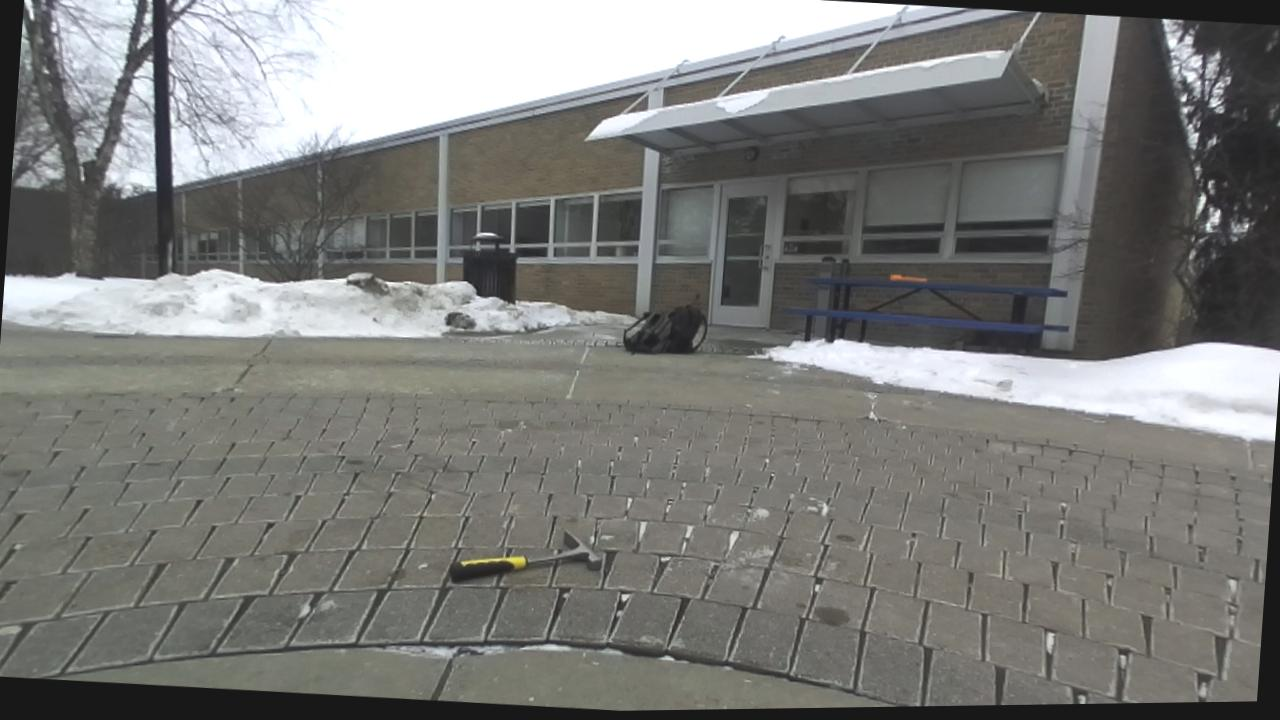pick: (448, 531, 602, 581)
